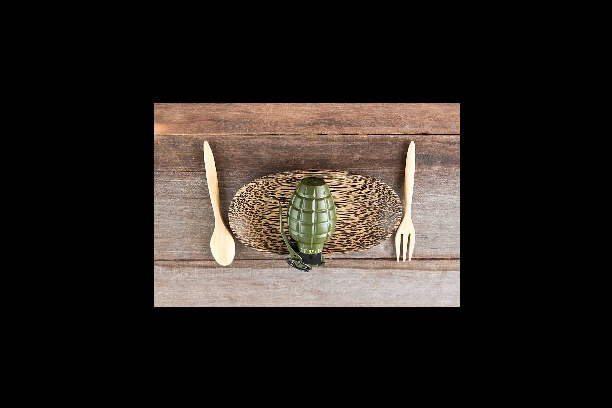e1: (276, 175, 333, 272)
